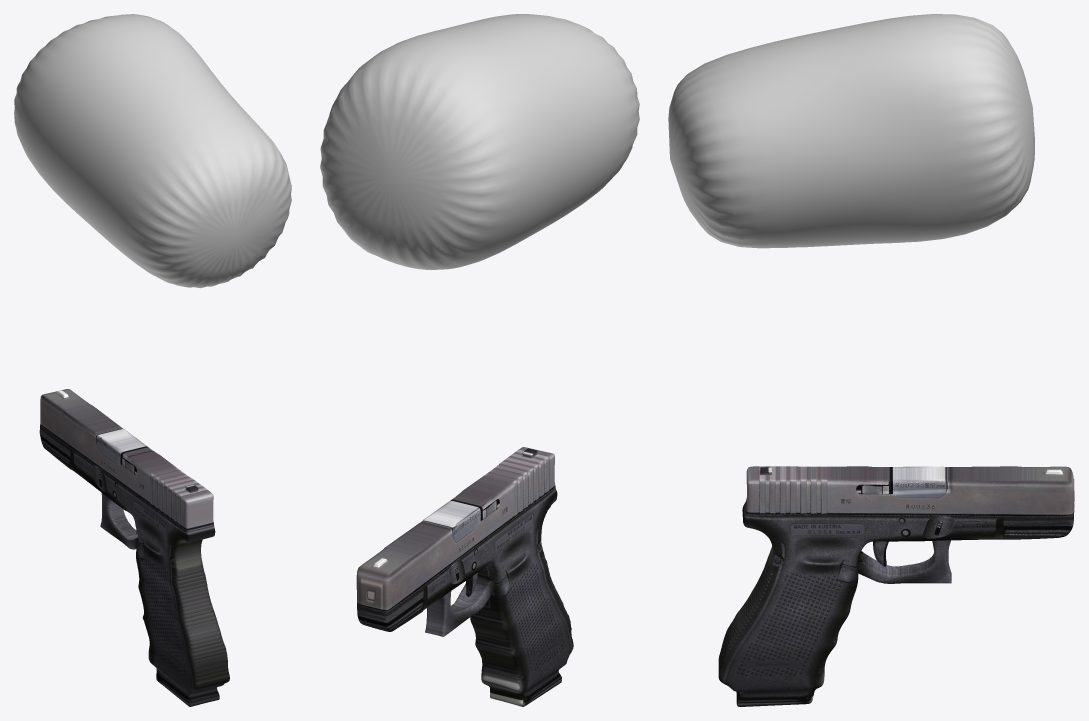
The model's file is gun.glb.
3 renders of one model, left to right at view 1: azimuth 30°, elevation 25°; view 2: azimuth 150°, elevation 25°; view 3: azimuth 270°, elevation 25°, orthographic. The views are drawn at different scales.
Visible parts, largest first — view 1: Cylinder, Cube.001, Cube.003; view 2: Cylinder, Cube.001, Cube.003; view 3: Cylinder, Cube.001, Cube.003.
Part boxes in pixels (left/top/right/bottom): Cylinder: left=14, top=14, right=291, bottom=288; Cube.001: left=39, top=389, right=229, bottom=706; Cube.003: left=100, top=493, right=138, bottom=549; Cylinder: left=320, top=14, right=639, bottom=269; Cube.001: left=356, top=447, right=573, bottom=706; Cube.003: left=425, top=574, right=494, bottom=636; Cylinder: left=668, top=14, right=1034, bottom=248; Cube.001: left=718, top=466, right=1074, bottom=706; Cube.003: left=857, top=540, right=951, bottom=583.
Size of the model in its own units: 1.06 by 3.74 by 2.03.
4 materials, 3 textured.
